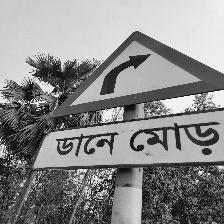Right-turn: (33, 29, 224, 176)
